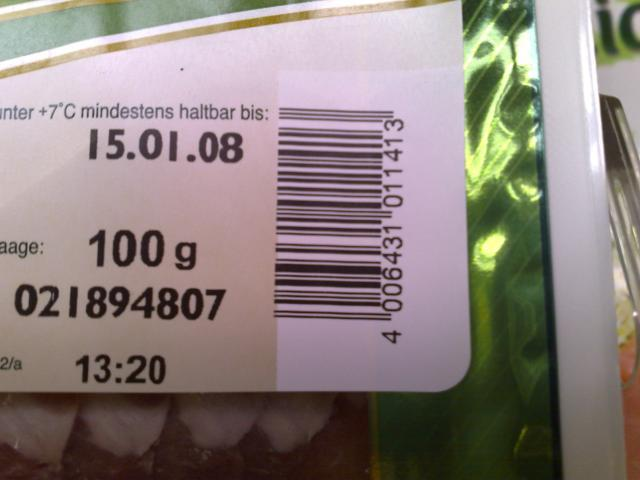Barkod: (265, 100, 391, 324)
